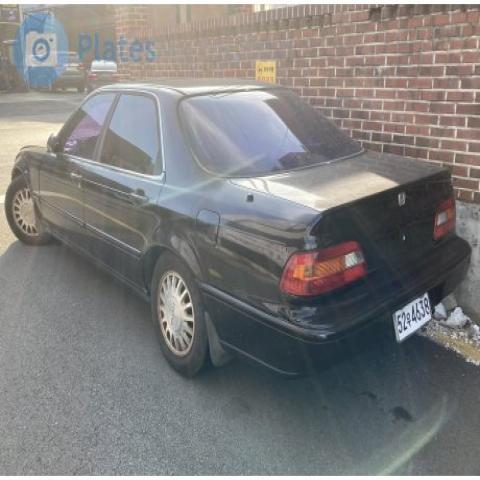LP: (385, 280, 443, 353)
